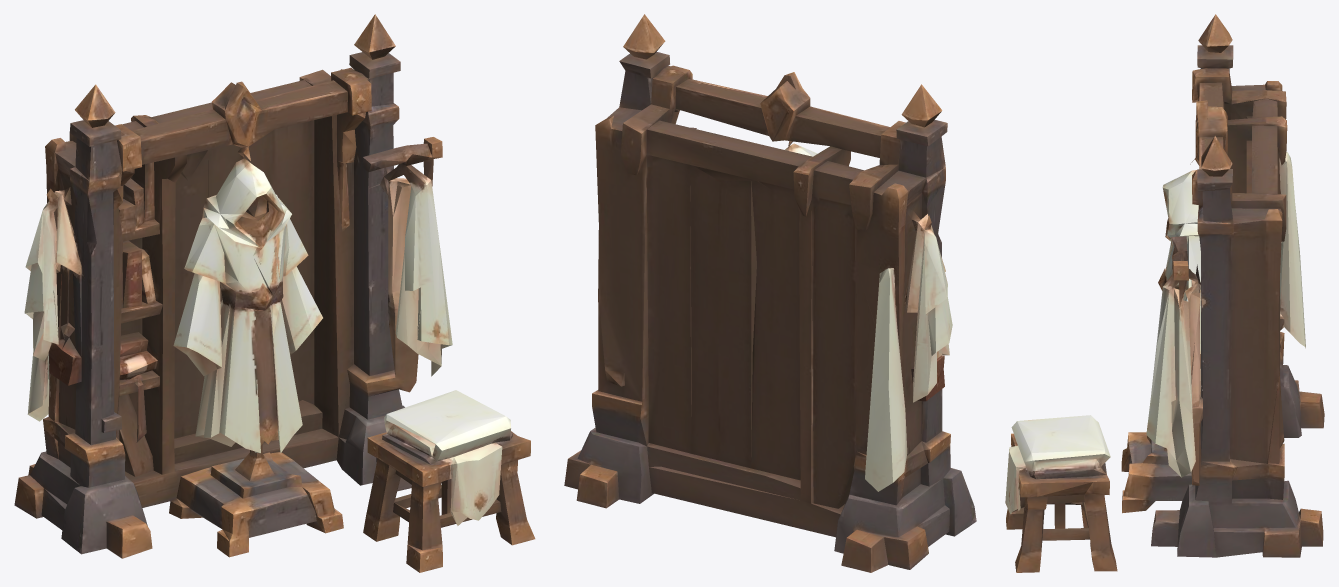
File: hub_wardrobe.glb
3 views of the same model, side by side, from view 1: azimuth 30°, elevation 25°; view 2: azimuth 150°, elevation 25°; view 3: azimuth 270°, elevation 25° (orthographic). The views are drawn at different scales.
Parts seen in each view (by area): view 1: body; view 2: body; view 3: body.
Part boxes in pixels (bbox=[...]): body: bbox=[14, 14, 535, 572]; body: bbox=[564, 14, 976, 572]; body: bbox=[1005, 14, 1324, 572].
Size of the model in its own units: 2.08 by 2.4 by 1.67.
1 material, 1 textured.
